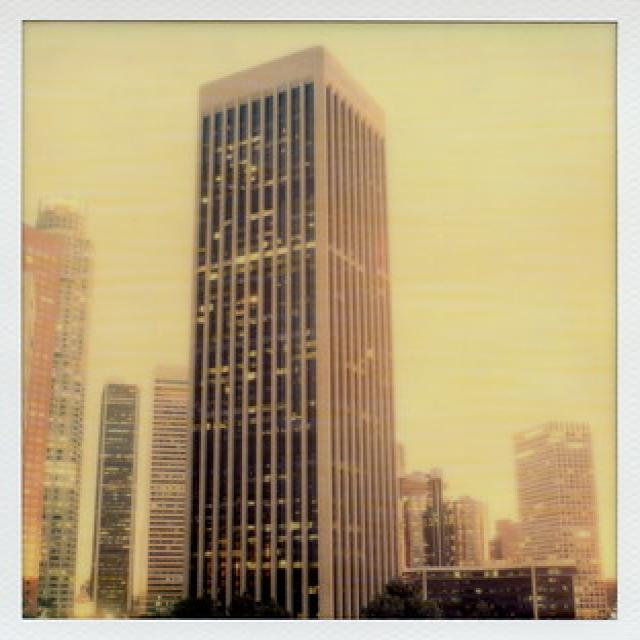building: (184, 41, 405, 621), (87, 375, 139, 617)
